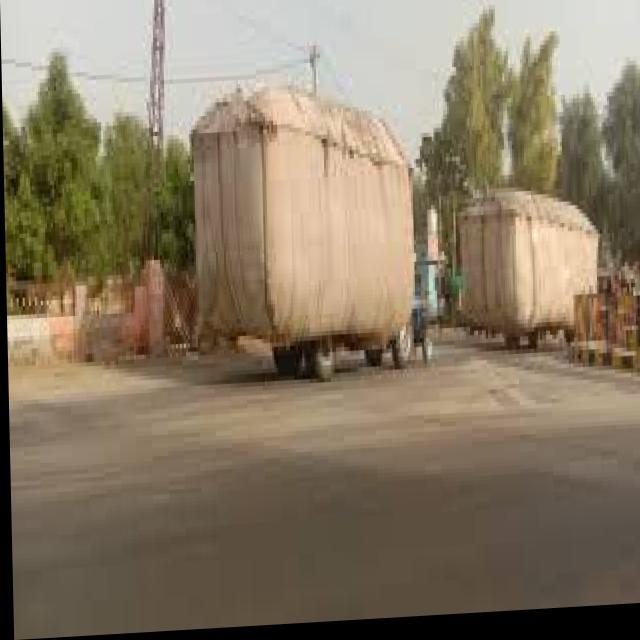covered: (190, 73, 438, 386), (458, 188, 604, 372)
